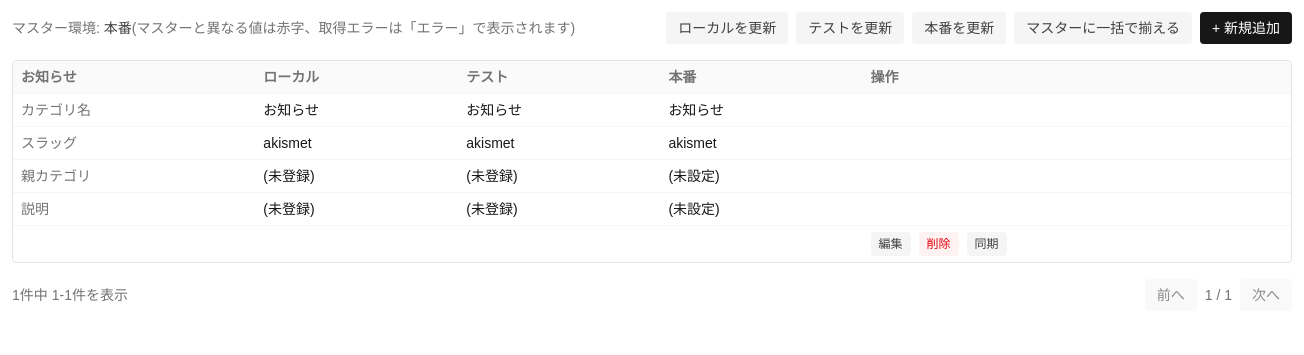
TermComparisonTable › 削除に失敗するとエラーメッセージを表示する
Click the button "削除".
click(938, 244)  # box [918, 232, 958, 256]
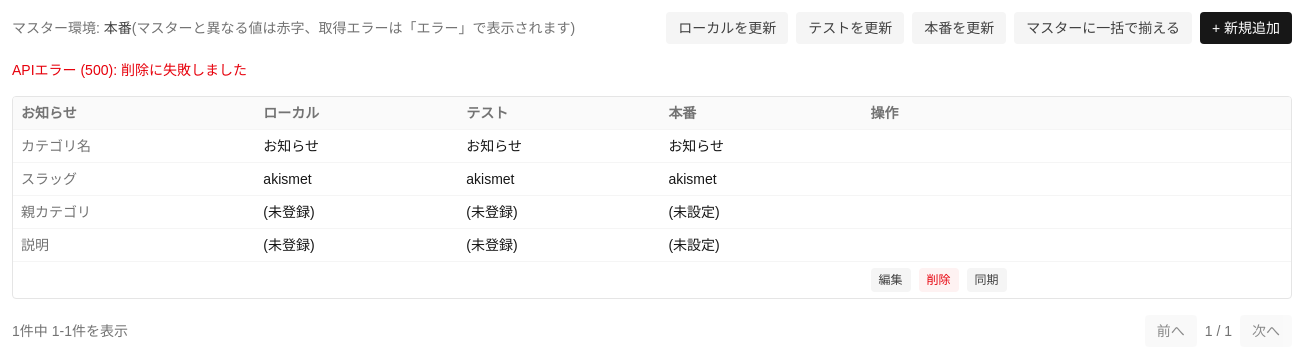
expect the text "APIエラー (500): 削除に失敗しました" is shown: met, box [12, 62, 247, 78]
